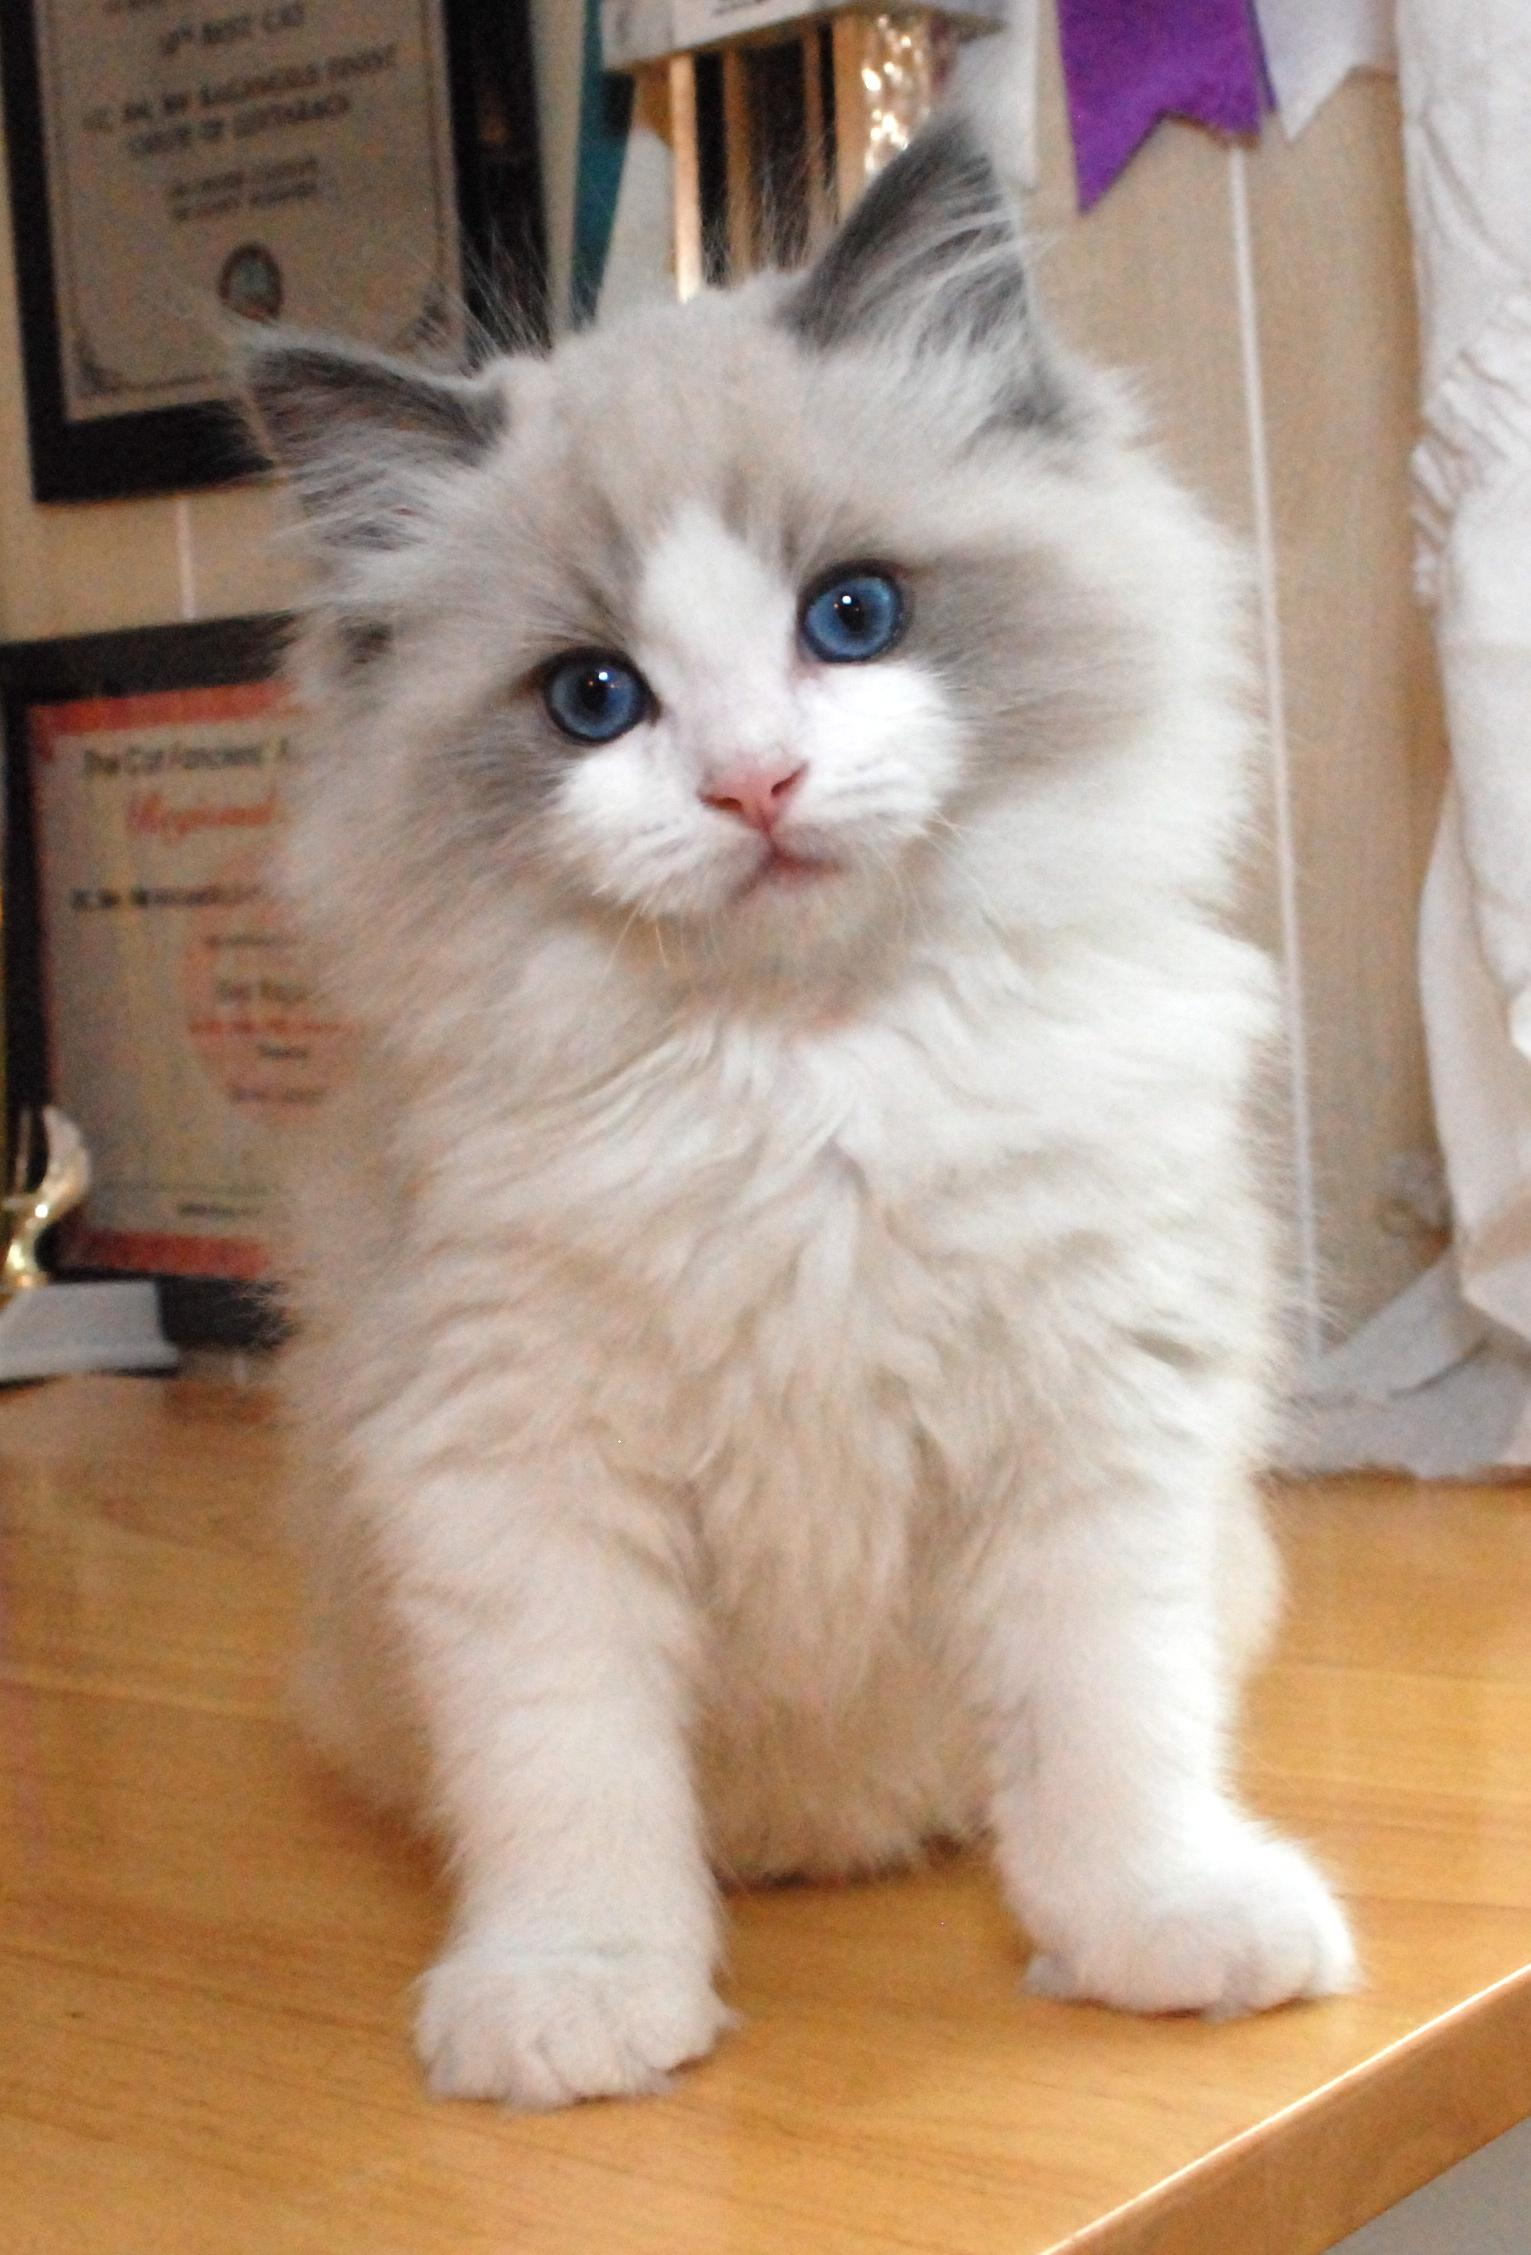ragdoll: (208, 111, 1169, 1022)
